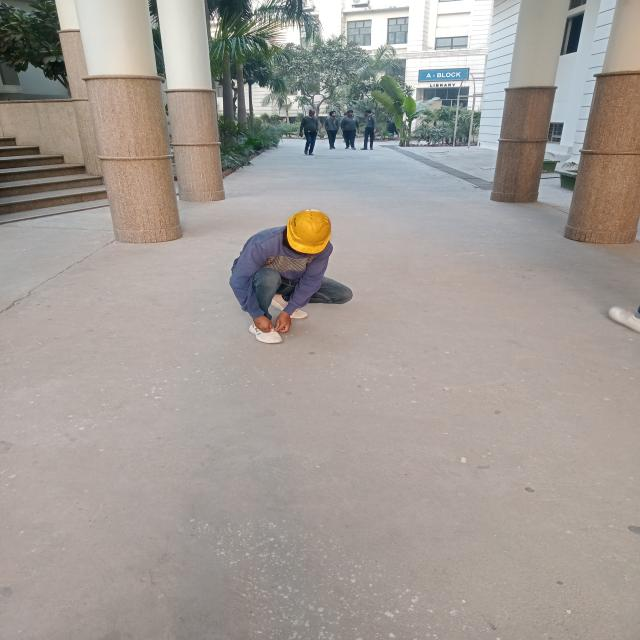no jacket: (231, 200, 366, 350)
unsafe: (299, 108, 322, 156), (338, 109, 358, 151), (322, 109, 340, 150), (362, 109, 376, 150)
